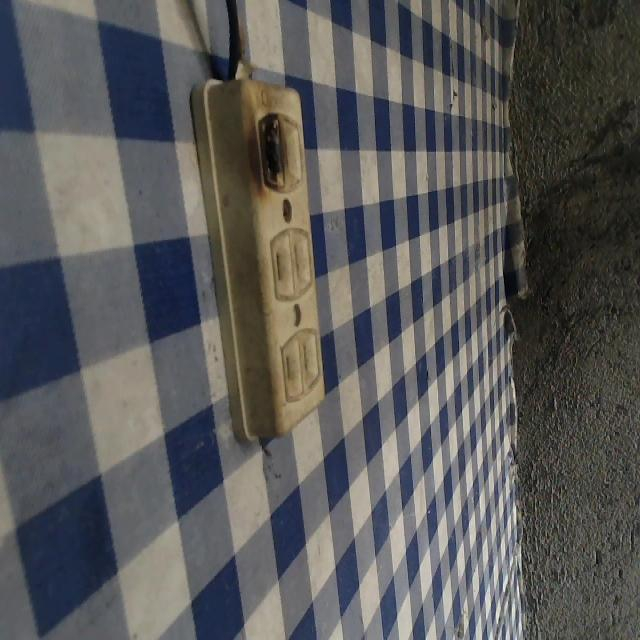-: (244, 94, 292, 194)
